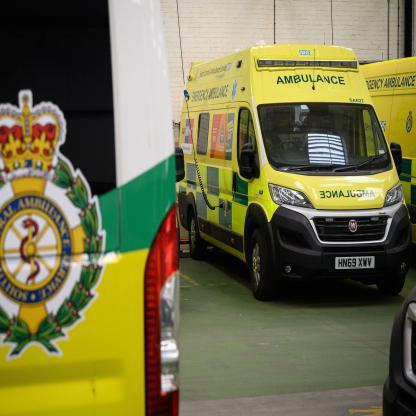Ambulance - v1 Ambulance last generate: (0, 0, 191, 415), (176, 44, 411, 286), (361, 52, 415, 219)
